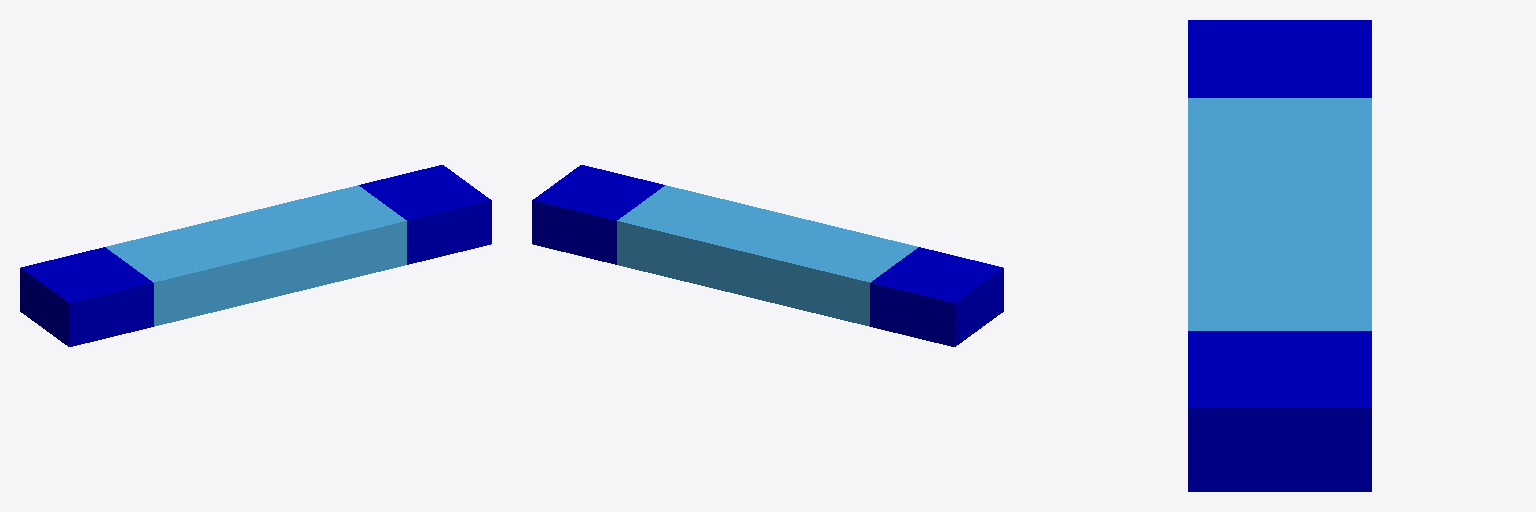
URDF robot description (Chain):
<?xml version="1.0"?>
<robot name="Chain">
  <link name="baselink"/>
  <link name="chainbase">
    <visual>
      <geometry>
        <box size="0.3 .10 0.05"/>
      </geometry>
    </visual>
    <inertial>
      <mass value="3"/>
      <inertia ixx="0.4" ixy="0.0" ixz="0.0" iyy="0.4" iyz="0.0" izz="0.2"/>
    </inertial>
  </link>
  <link name="link1">
    <visual>
			<origin rpy="0 0 0" xyz="0.05 0.0 0"/>
      <geometry>
        <box size="0.1 .10 0.05"/>
      </geometry>
      <material name="blue">
        <color rgba="0 0 0.8 1"/>
      </material>
    </visual>
    <inertial>
			<origin rpy="0 0 0" xyz="0.05 0.0 0"/>
      <mass value="1"/>
      <inertia ixx="0.4" ixy="0.0" ixz="0.0" iyy="0.4" iyz="0.0" izz="0.2"/>
    </inertial>
  </link>
  <link name="link2">
    <visual>
			<origin rpy="0 0 0" xyz="-0.05 0.0 0"/>
      <geometry>
        <box size="0.1 .10 0.05"/>
      </geometry>
      <material name="blue">
        <color rgba="0 0 0.8 1"/>
      </material>
    </visual>
    <inertial>
			<origin rpy="0 0 0" xyz="-0.05 0.0 0"/>
      <mass value="1"/>
      <inertia ixx="0.4" ixy="0.0" ixz="0.0" iyy="0.4" iyz="0.0" izz="0.2"/>
    </inertial>
  </link>
 <!-- Joints -->
  <joint name="basetoroot" type="fixed">
    <parent link="baselink"/>
    <child link="chainbase"/>
    <origin rpy="0 0 0" xyz="0 0 0"/>
  </joint>
  <joint name="roottolink1" type="revolute">
    <parent link="chainbase"/>
    <child link="link1"/>
    <origin rpy="0 0 0" xyz="0.15 0.0 0"/>
    <axis xyz="0 -1 0"/>
		<limit effort="30" velocity="5.0" lower="-3.14" upper="3.14" />
  </joint>
  <joint name="roottolink2" type="revolute">
    <parent link="chainbase"/>
    <child link="link2"/>
    <origin rpy="0 0 0" xyz="-0.15 0.0 0"/>
    <axis xyz="0 -1 0"/>
		<limit effort="30" velocity="5.0" lower="-3.14" upper="3.14" />
  </joint>
</robot>

--- Facts derived from the render (not from the file) ---
3 views of the same robot in one strip: view 1: azimuth 30°, elevation 25°; view 2: azimuth 150°, elevation 25°; view 3: azimuth 270°, elevation 25° (orthographic).
Model Chain with 4 links and 3 joints (2 revolute, 1 fixed), rooted at baselink, posed every joint at zero.
Visible links, largest first — view 1: chainbase, link2, link1; view 2: chainbase, link2, link1; view 3: chainbase, link1, link2.
Boxes of the visible links, x1,y1,x2,y2 form: chainbase: [106, 185, 406, 326]; link2: [20, 247, 153, 346]; link1: [359, 165, 491, 264]; chainbase: [617, 185, 917, 326]; link2: [870, 247, 1003, 346]; link1: [532, 165, 664, 264]; chainbase: [1188, 98, 1371, 330]; link1: [1188, 331, 1371, 491]; link2: [1188, 20, 1371, 97].
Size in the robot's own frame: 0.5 by 0.1 by 0.05 metres.
Geometry: primitives only (box / cylinder / sphere), no mesh files.